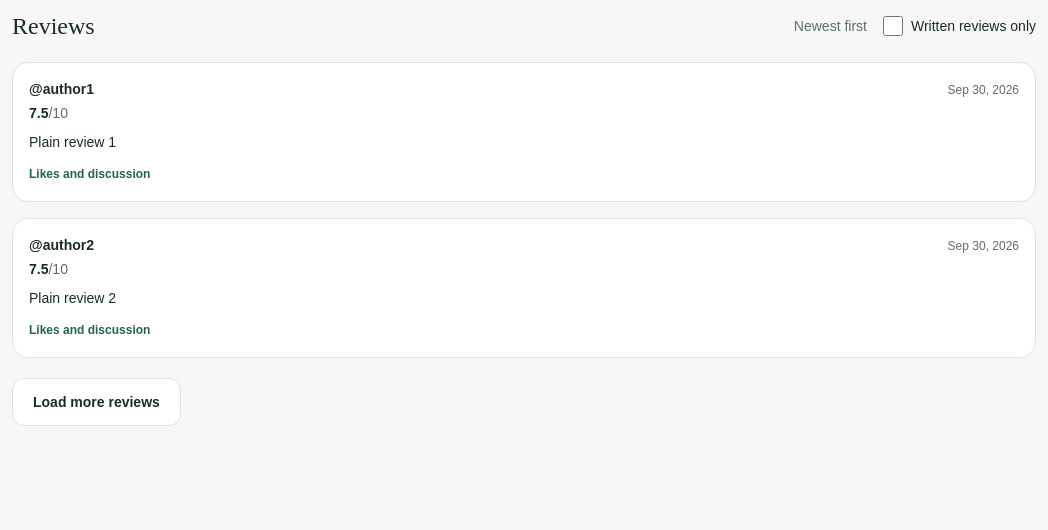
<ReviewList> › loads the next page with the cursor and appends without duplicates
Click the button "Load more reviews".
click(96, 402)  # box [12, 378, 181, 426]
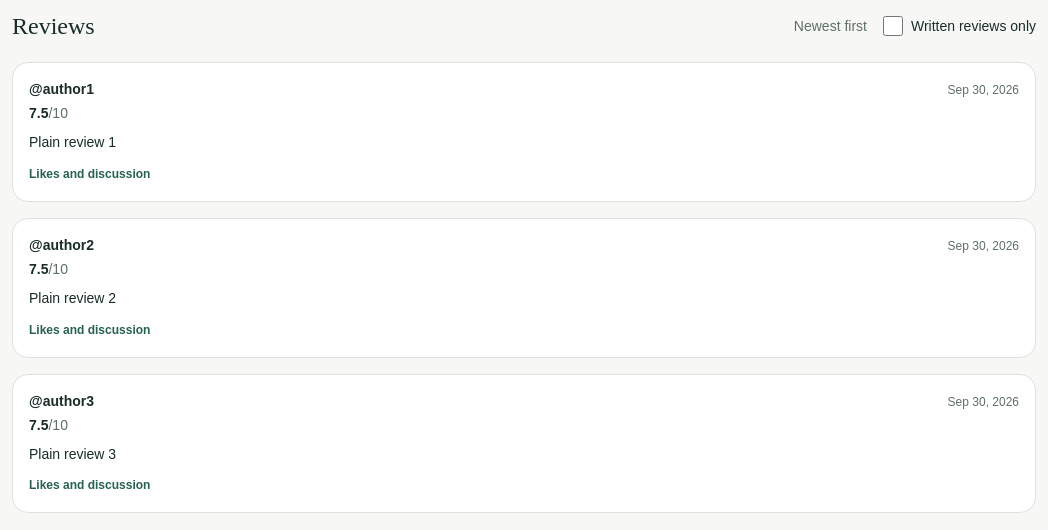
expect the number of list items is 3: met, box [12, 62, 1036, 202]; [12, 218, 1036, 358]; [12, 374, 1036, 513]
expect the button "Load more reviews" is gone: met
